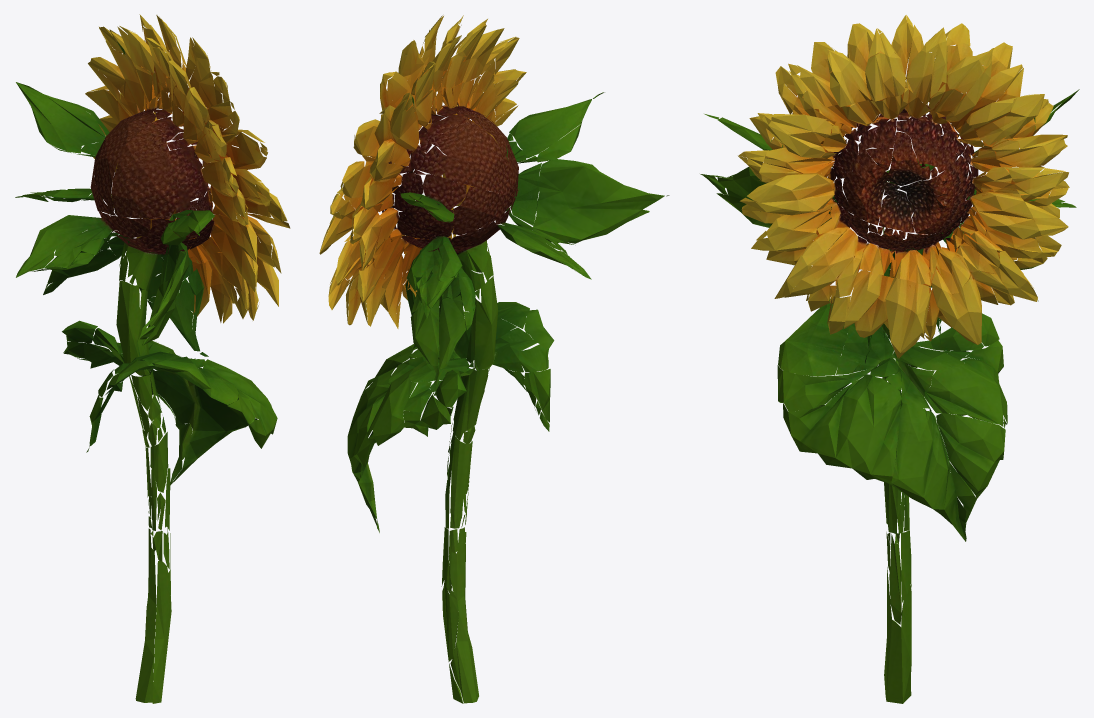
The model's file is flor_01_girasol.glb.
The picture shows the model from 3 angles, left to right: view 1: azimuth 30°, elevation 25°; view 2: azimuth 150°, elevation 25°; view 3: azimuth 270°, elevation 25°; orthographic projection. The views are drawn at different scales.
Parts seen in each view (by area): view 1: tripo_node_45a4f7bc-d13f-46a0-907f-aa54747f41cd; view 2: tripo_node_45a4f7bc-d13f-46a0-907f-aa54747f41cd; view 3: tripo_node_45a4f7bc-d13f-46a0-907f-aa54747f41cd.
Part boxes in pixels (box(x1,y1,x2,y2)): tripo_node_45a4f7bc-d13f-46a0-907f-aa54747f41cd: box(15, 14, 290, 703); tripo_node_45a4f7bc-d13f-46a0-907f-aa54747f41cd: box(319, 15, 669, 703); tripo_node_45a4f7bc-d13f-46a0-907f-aa54747f41cd: box(700, 15, 1079, 703).
Bounding box in the file's own units: 0.3665 × 0.9774 × 0.4909.
1 material, 1 textured.
